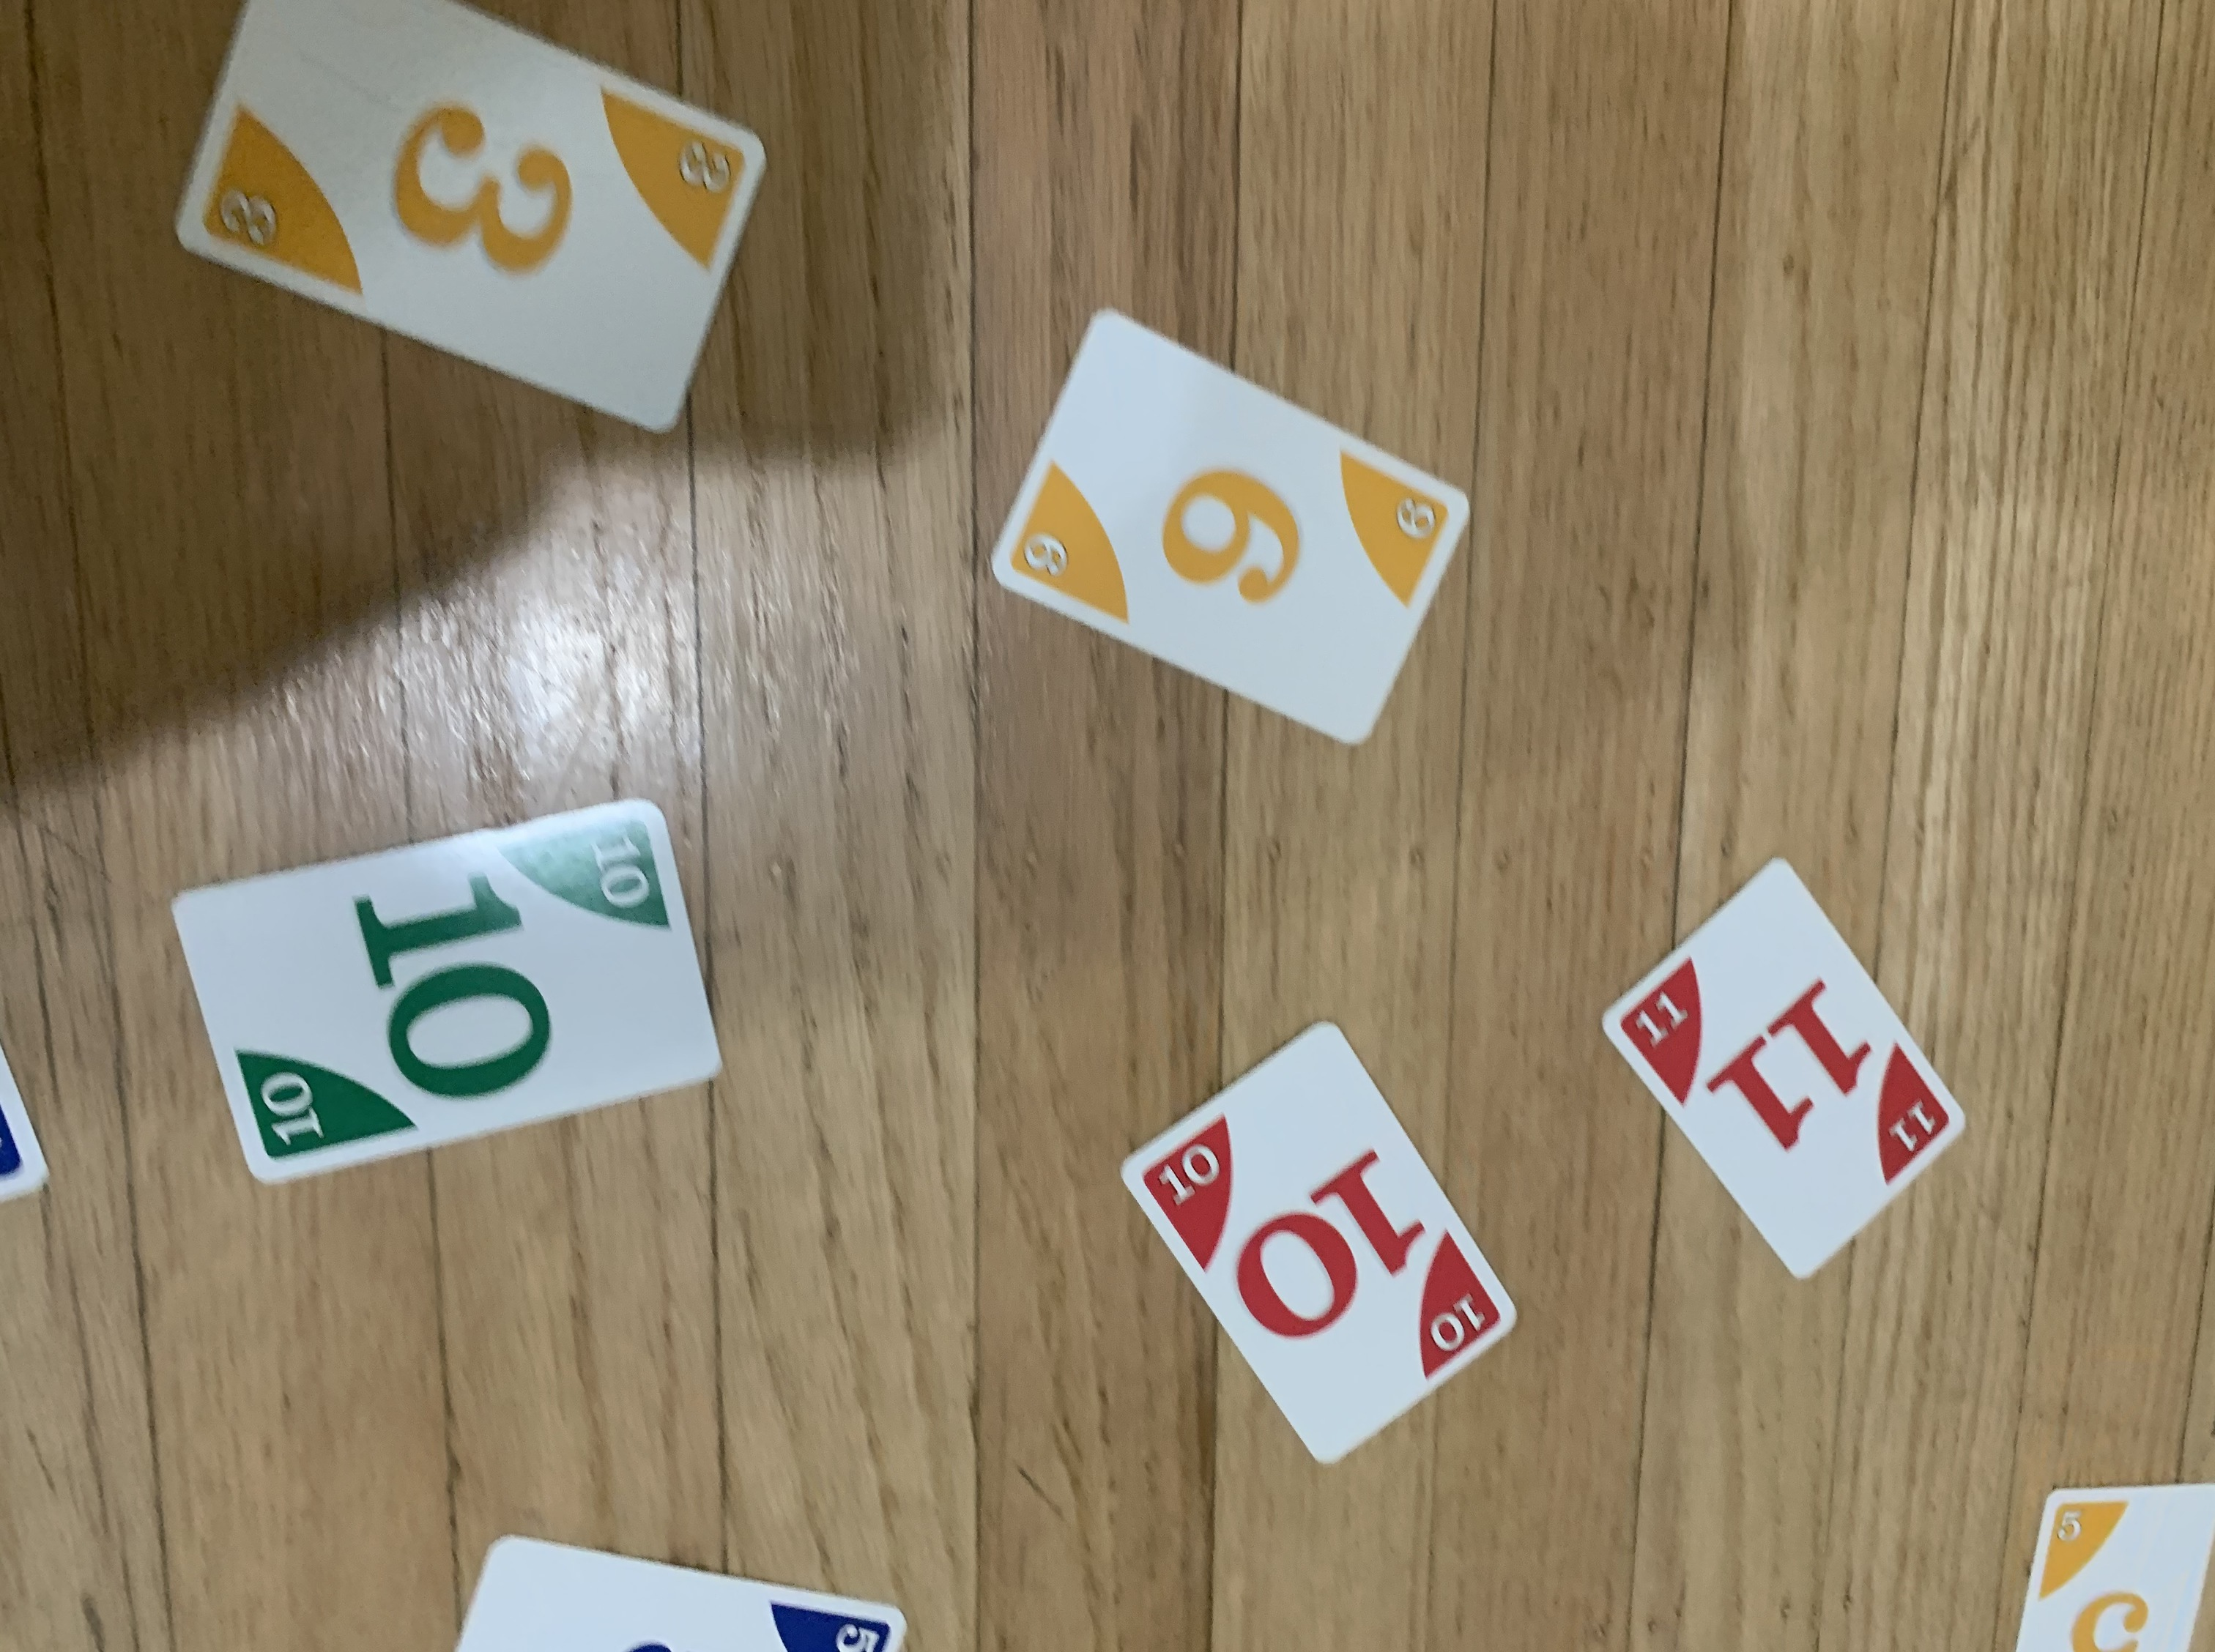eleven: (1590, 854, 1970, 1288)
nine: (981, 298, 1481, 744)
ten: (170, 791, 741, 1196), (1104, 1013, 1524, 1475)
three: (160, 0, 785, 451)
